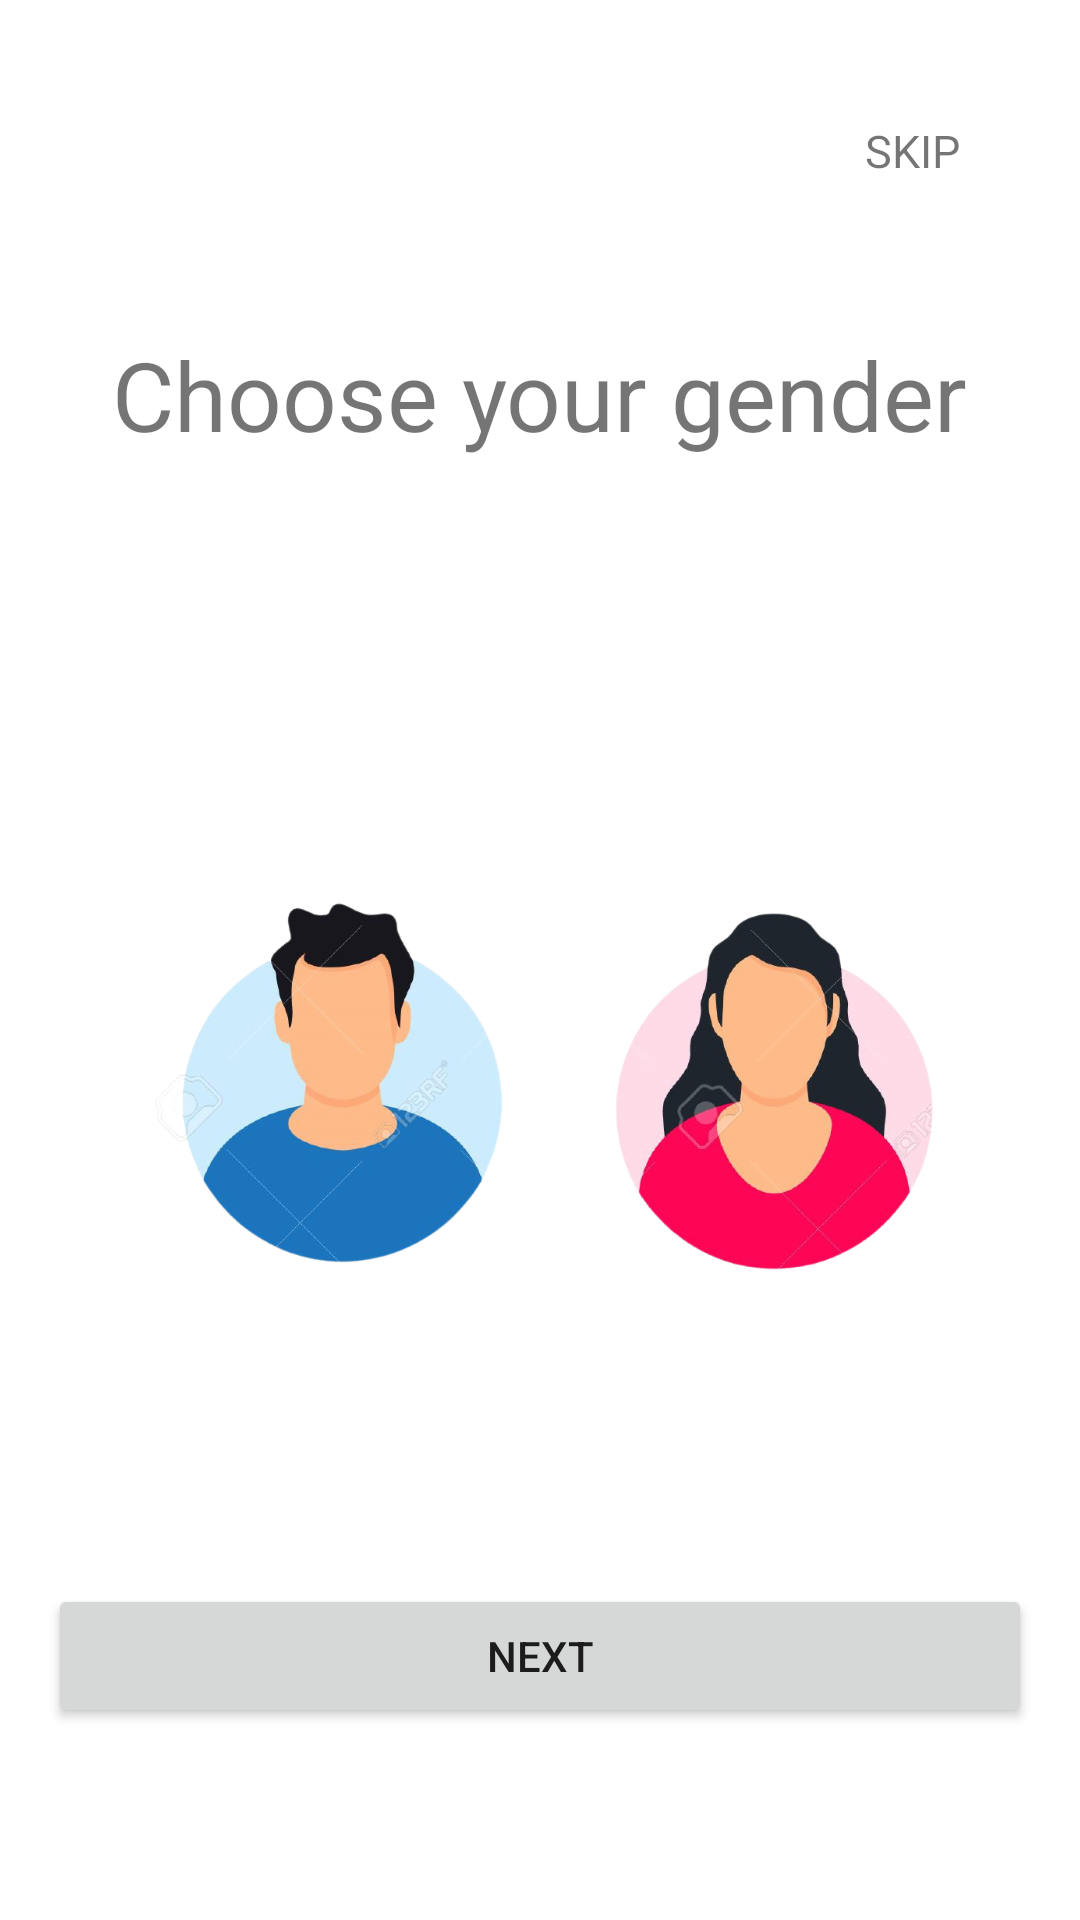

Named icons in this screenshot (1080×1920) and their centers, (x,y):
Female image: (774,1091)
Male image: (342,1082)
